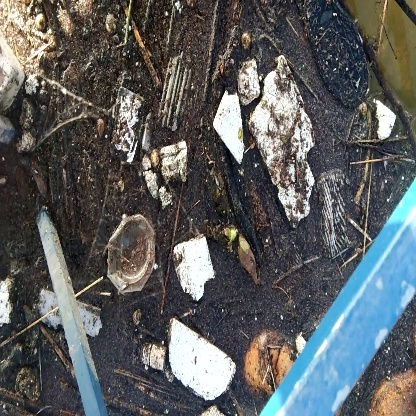plastic-garbage: (166, 313, 240, 402)
